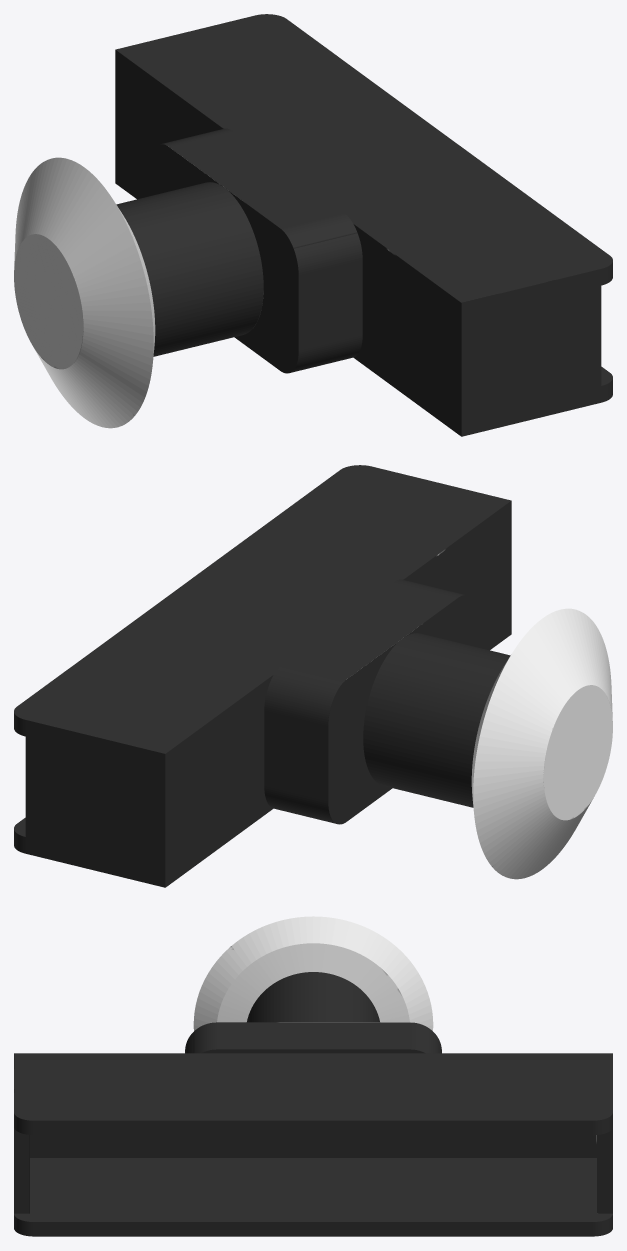
The model's file is TR5_Wrist_2.dae.
3 renders of one model, top to bottom at view 1: azimuth 30°, elevation 25°; view 2: azimuth 150°, elevation 25°; view 3: azimuth 270°, elevation 25°, orthographic. The views are drawn at different scales.
Parts seen in each view (by area): view 1: Wrist_Yaw; view 2: Wrist_Yaw; view 3: Wrist_Yaw.
Boxes of the visible parts, bbox=[...] form: Wrist_Yaw: bbox=[14, 14, 612, 436]; Wrist_Yaw: bbox=[14, 465, 612, 887]; Wrist_Yaw: bbox=[14, 916, 612, 1236].
Bounding box in the file's own units: 0.05 × 0.075 × 0.03.
2 materials, 2 textured.
